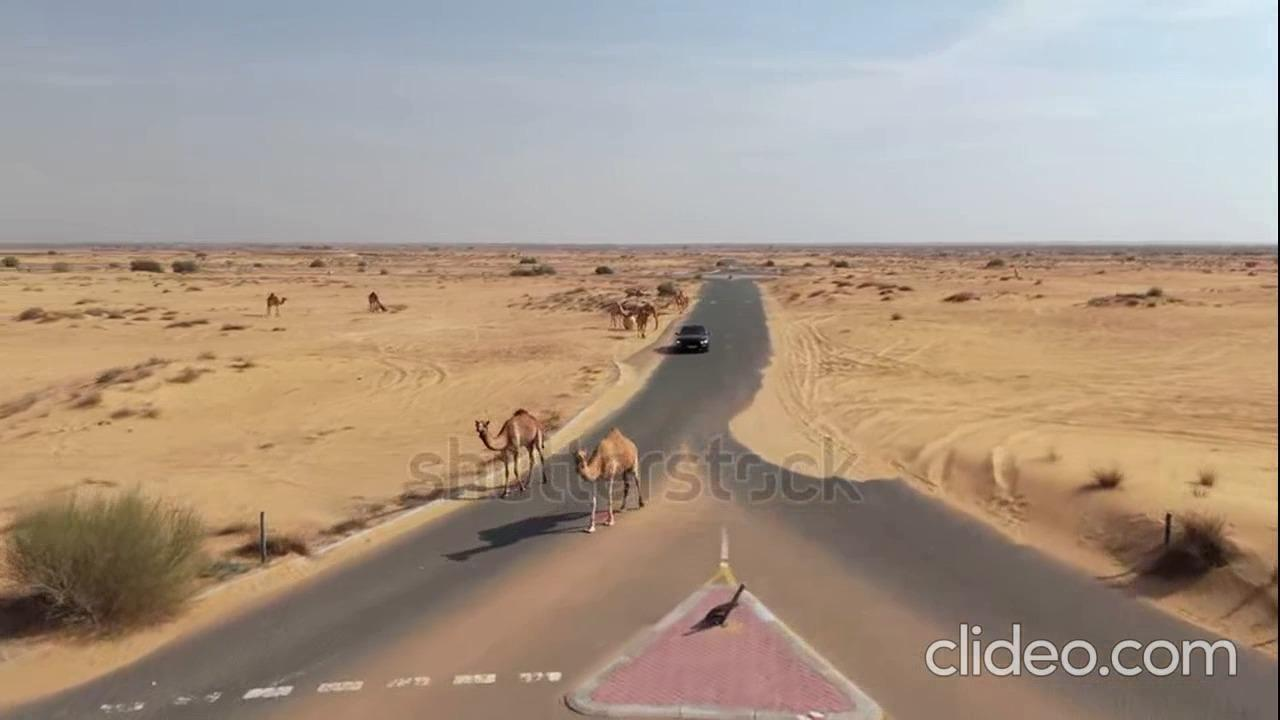camel: (467, 400, 557, 508), (571, 422, 642, 527)
